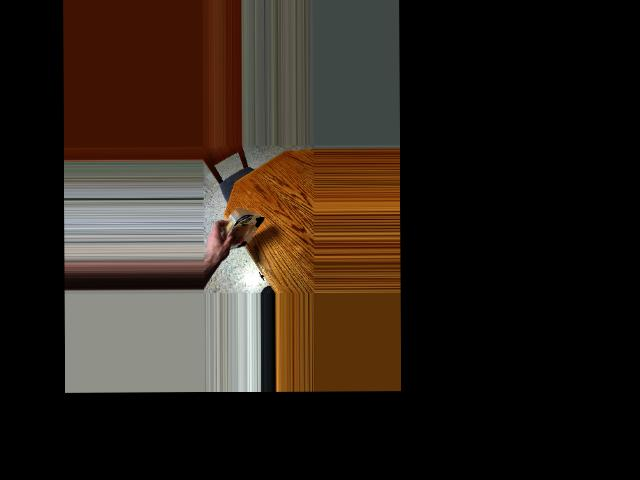cheese: (223, 204, 262, 262)
